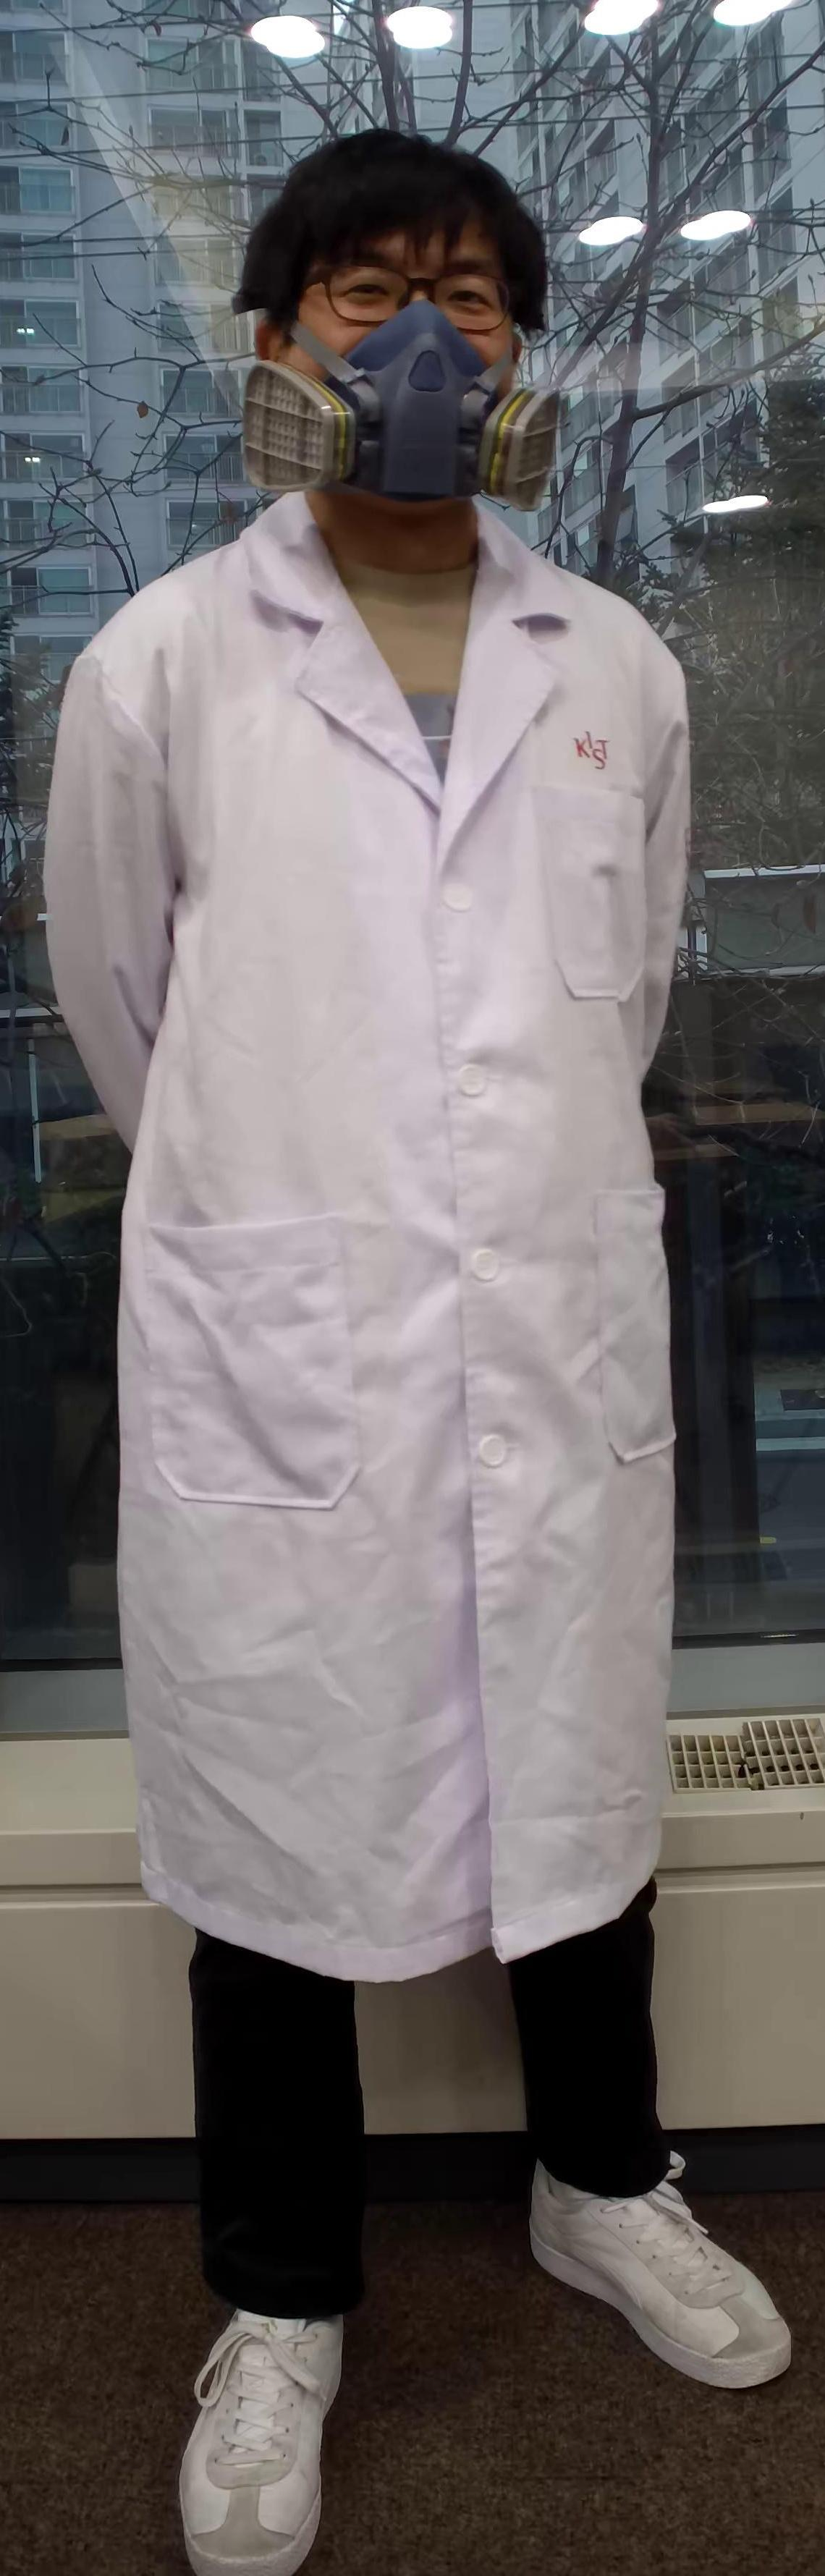lab_coat: (0, 544, 825, 1978)
